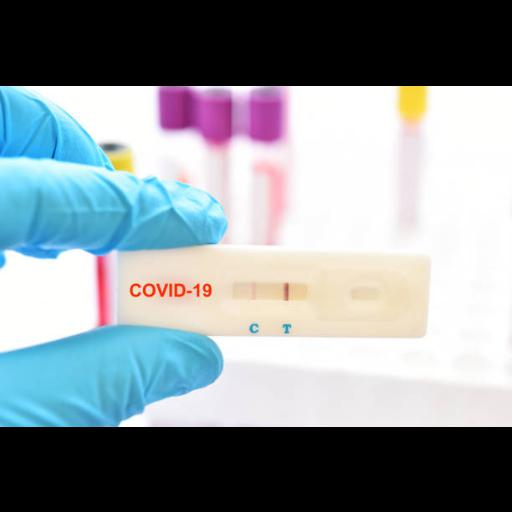Pos: (118, 246, 426, 336)
